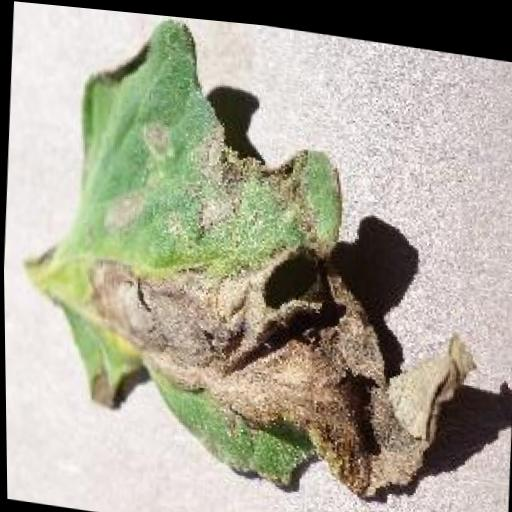Early Blight: (15, 2, 497, 506)
